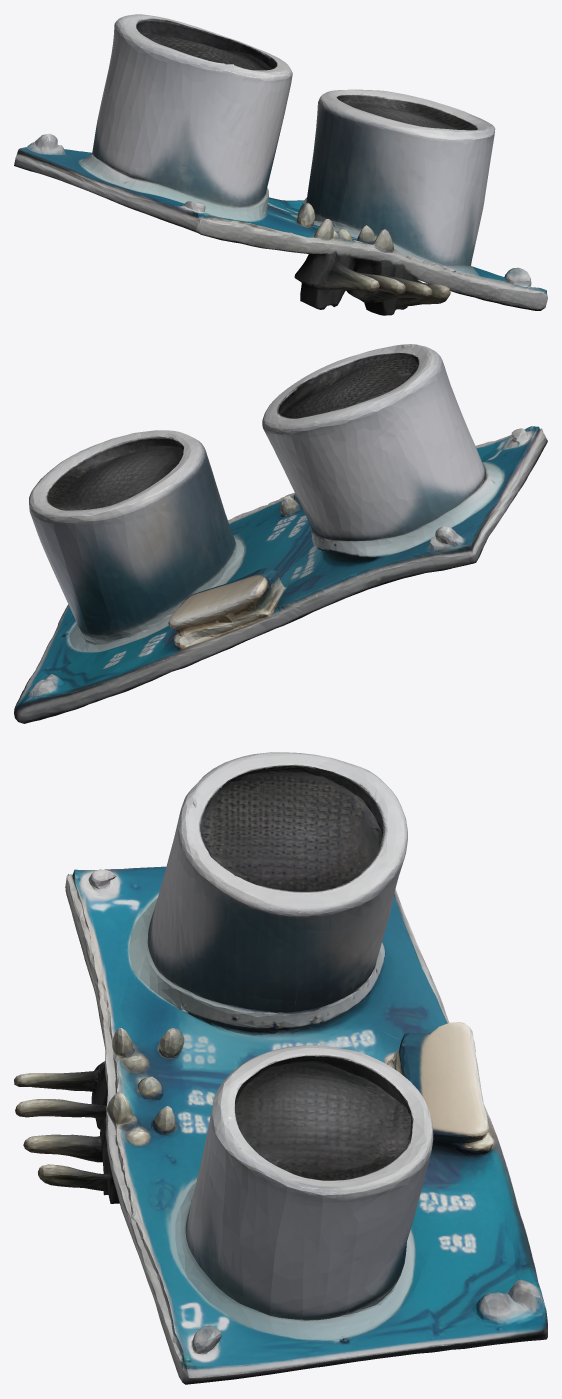
Rendered from 9810c90e-883a-4302-bd3a-eb0eac2b9706.glb.
The picture shows the model from 3 angles, top to bottom: view 1: azimuth 30°, elevation 25°; view 2: azimuth 150°, elevation 25°; view 3: azimuth 270°, elevation 25°; orthographic projection. The views are drawn at different scales.
Visible parts, largest first — view 1: world; view 2: world; view 3: world.
Part boxes in pixels (bbox=[...]): world: bbox=[14, 14, 547, 315]; world: bbox=[14, 344, 547, 723]; world: bbox=[14, 752, 547, 1384].
Bounding box in the file's own units: 0.9285 × 0.6461 × 0.7532.
1 material, 1 textured.
